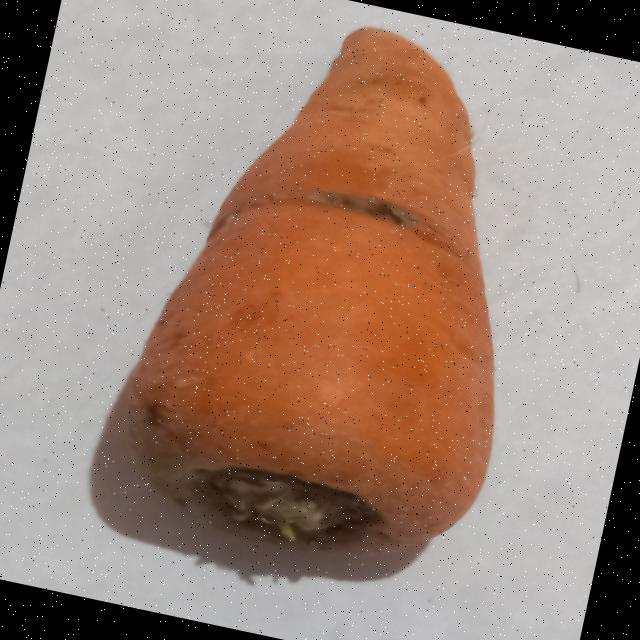carrot: (128, 27, 493, 551)
